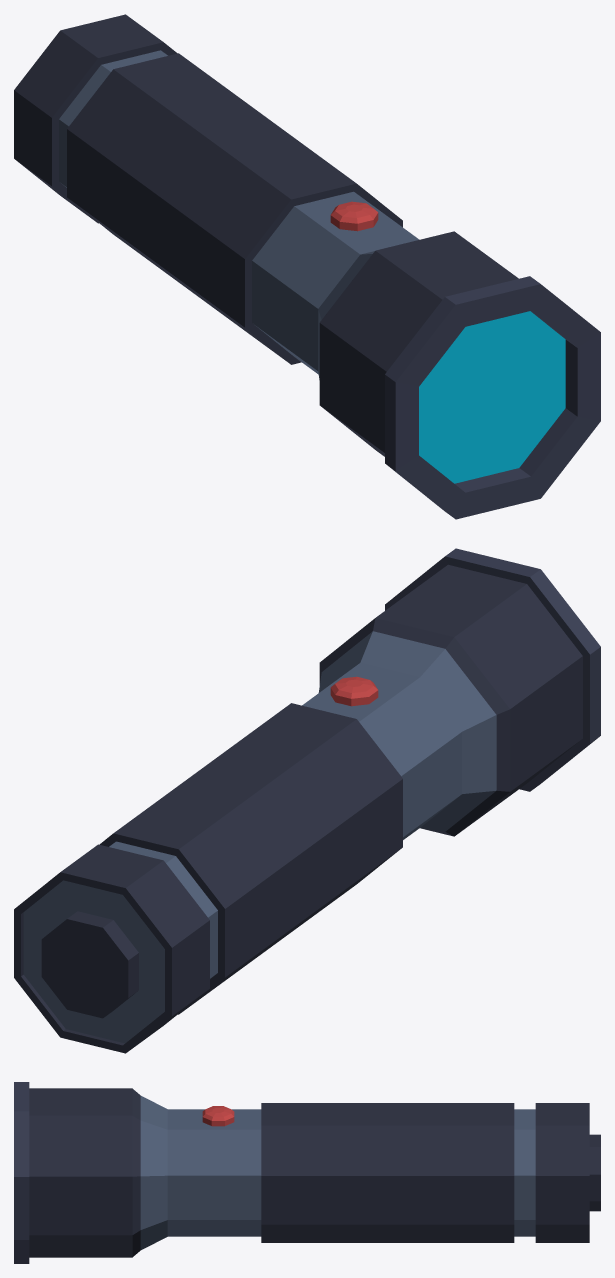
File: Flashlight.fbx
The picture shows the model from 3 angles, top to bottom: view 1: azimuth 30°, elevation 25°; view 2: azimuth 150°, elevation 25°; view 3: azimuth 270°, elevation 25°; orthographic projection. The views are drawn at different scales.
Parts seen in each view (by area): view 1: Flashlight, Power Button; view 2: Flashlight, Power Button; view 3: Flashlight, Power Button.
Boxes of the visible parts, <box> form: Flashlight: <box>14,14,600,519</box>; Power Button: <box>330,201,378,231</box>; Flashlight: <box>14,548,600,1053</box>; Power Button: <box>330,676,378,706</box>; Flashlight: <box>14,1082,600,1263</box>; Power Button: <box>202,1106,234,1126</box>.
Size of the model in its own units: 5.13 by 5.13 by 17.88.
